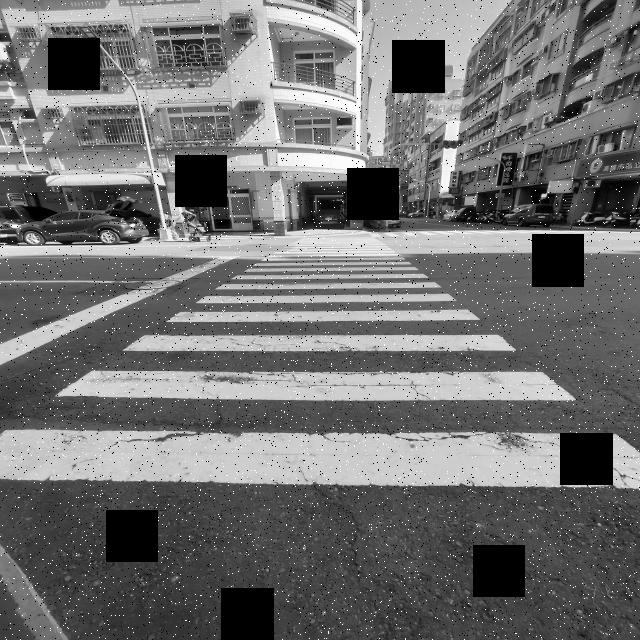zebra_crossing: (0, 237, 640, 493), (369, 230, 640, 237)
